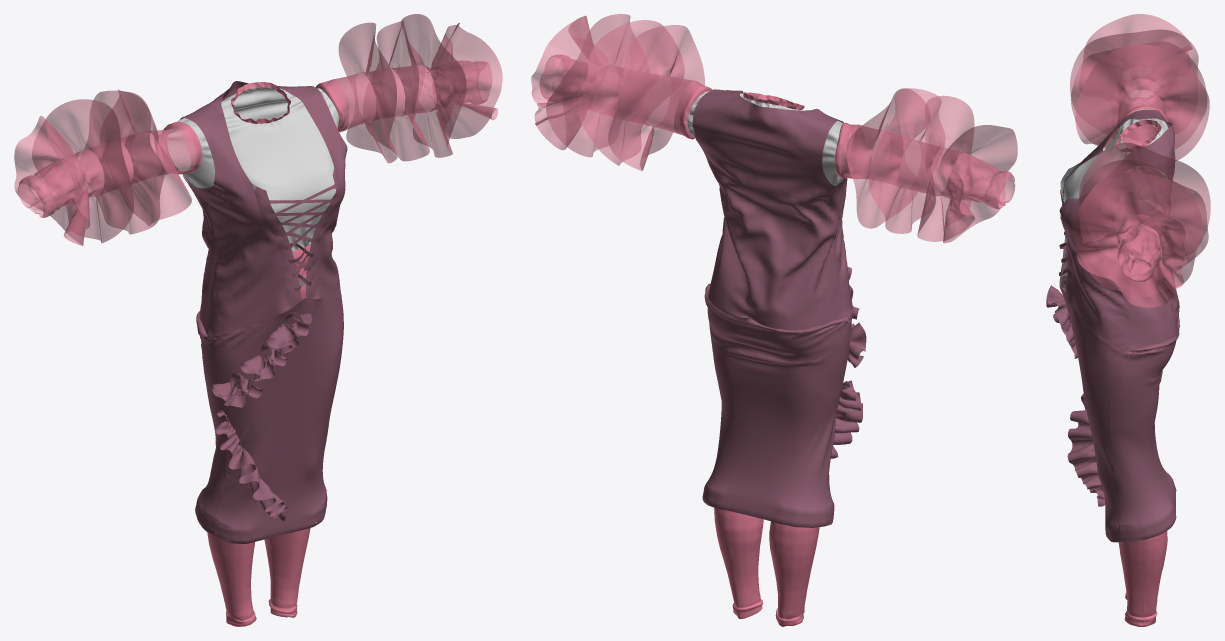
File: G_clothe11_pink.glb
The picture shows the model from 3 angles, left to right: view 1: azimuth 30°, elevation 25°; view 2: azimuth 150°, elevation 25°; view 3: azimuth 270°, elevation 25°; orthographic projection. The views are drawn at different scales.
Parts seen in each view (by area): view 1: Garment; view 2: Garment; view 3: Garment.
Boxes of the visible parts, x1,y1,x2,y2 form: Garment: [14, 14, 502, 626]; Garment: [531, 14, 1017, 626]; Garment: [1046, 14, 1210, 626].
Size of the model in its own units: 1.23 by 1.43 by 0.4118.
1 material, 1 textured.
